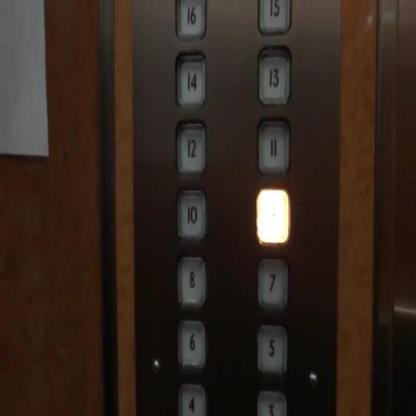10: (175, 186, 206, 238)
11: (256, 118, 290, 172)
12: (175, 120, 206, 173)
13: (257, 45, 291, 107)
14: (174, 50, 206, 108)
16: (174, 0, 207, 38)
4: (177, 383, 205, 415)
5: (256, 324, 287, 374)
6: (176, 319, 206, 367)
7: (257, 258, 288, 309)
8: (176, 253, 206, 306)
blur: (257, 186, 290, 244)
